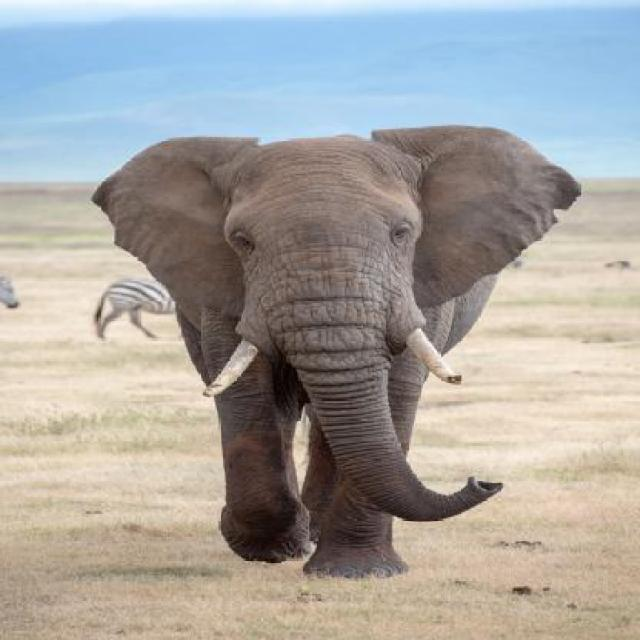Elephant: (72, 114, 583, 589)
